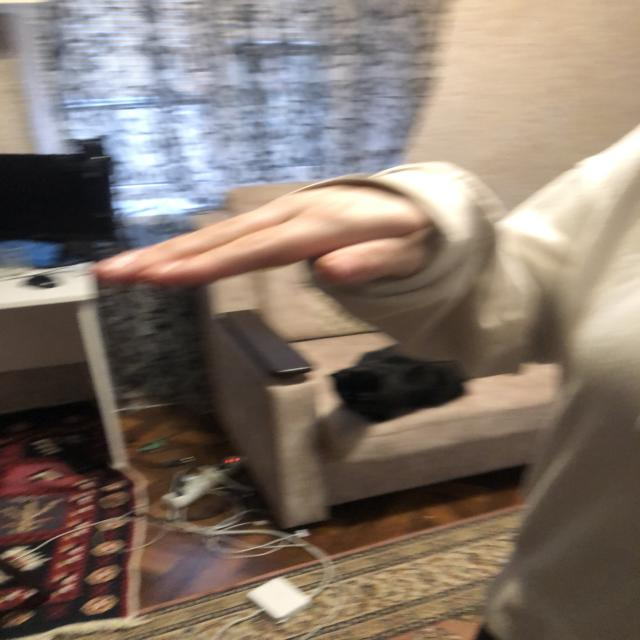paper: (94, 193, 424, 286)
